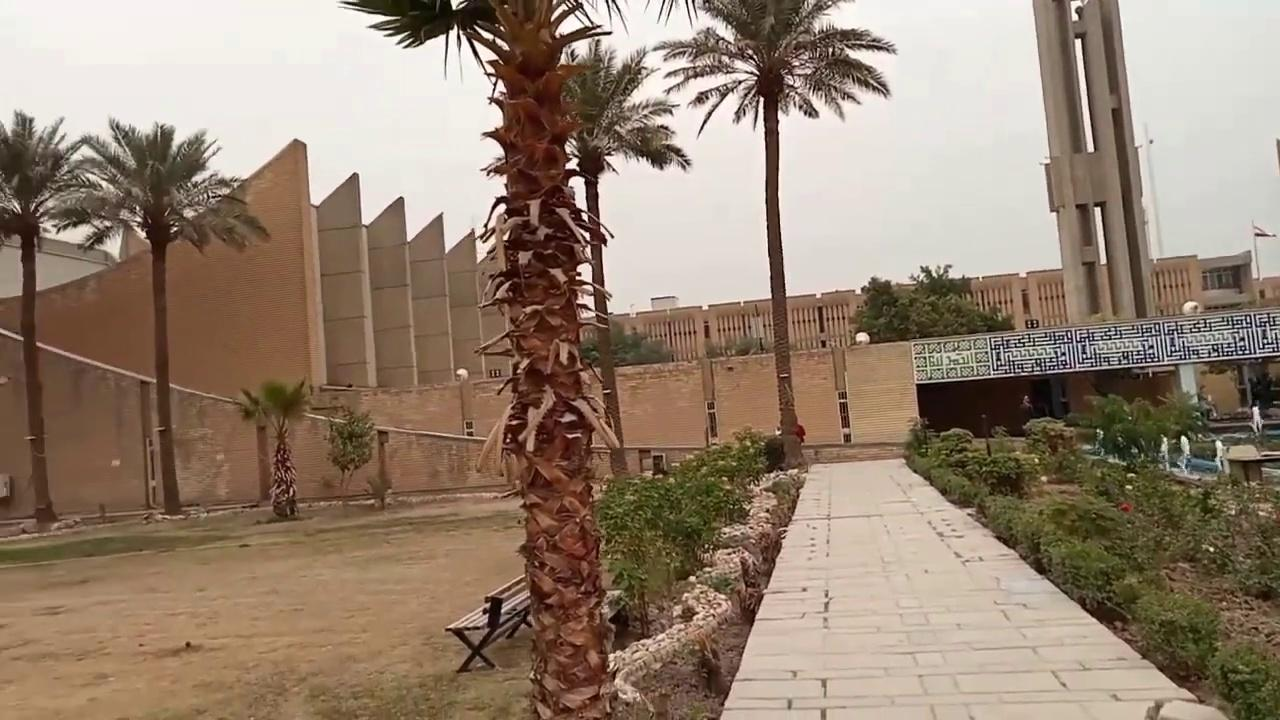fountain: (1081, 425, 1277, 484), (1157, 431, 1228, 478), (853, 330, 870, 345)
person: (1178, 433, 1191, 474), (1213, 439, 1228, 474), (1250, 399, 1262, 437), (1158, 434, 1169, 470), (1019, 394, 1033, 414)
tree: (335, 0, 636, 718), (650, 0, 897, 461), (54, 116, 271, 514), (551, 36, 692, 480), (0, 108, 100, 524), (846, 262, 1014, 343), (233, 375, 313, 517), (319, 402, 376, 498), (232, 387, 270, 503)
